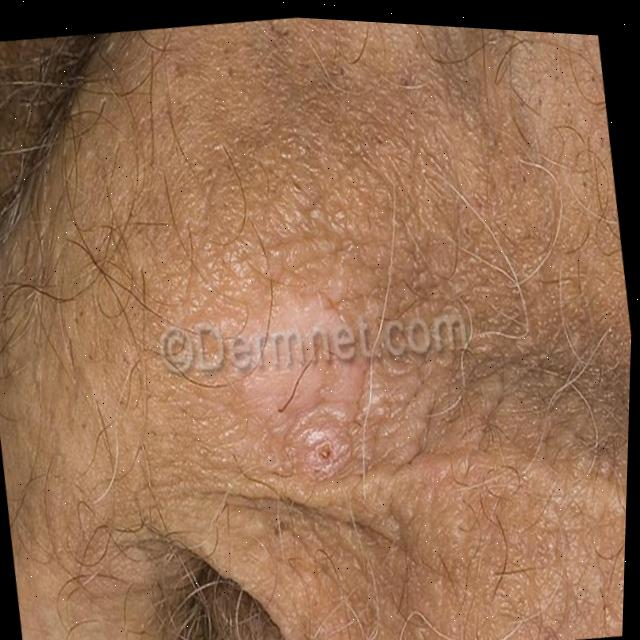Eczema: (264, 299, 376, 471)
